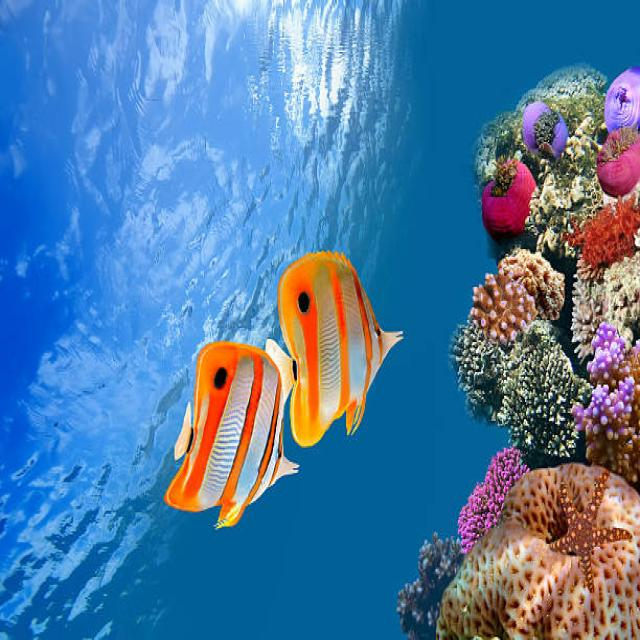ButterflyFish: (166, 336, 303, 534), (278, 250, 412, 446)
